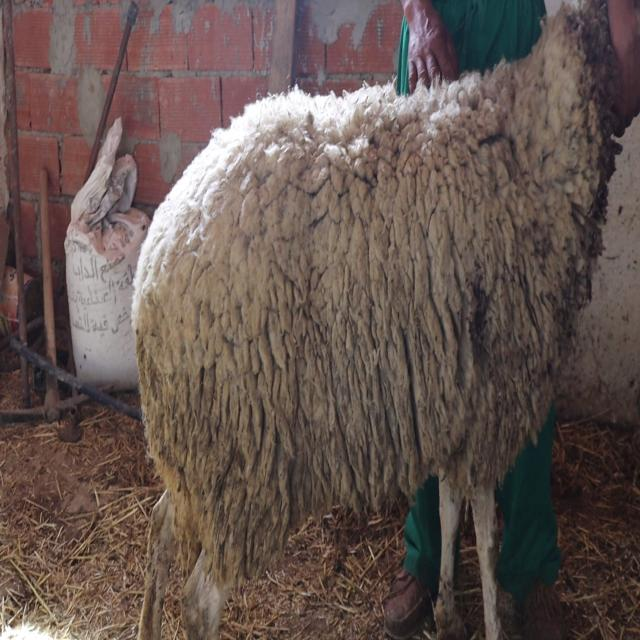Score_4: (132, 0, 625, 639)
